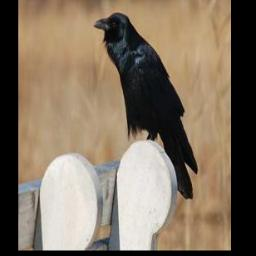Crow: (93, 12, 199, 201)
